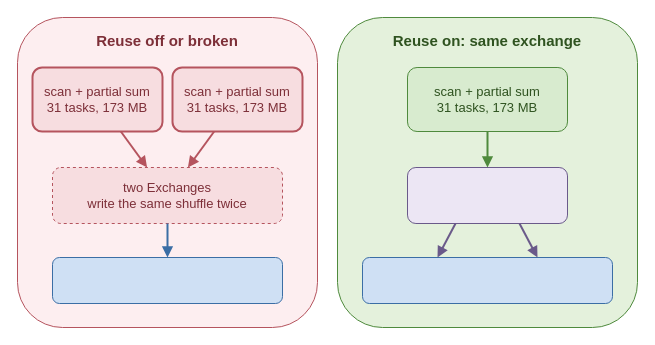
This 655x345 diagram has some shape labels left out. Here are the shapes that lost their labels. From the top down, the centre of each, then its label:
pixel 487 195: one Exchange written once
pixel 167 280: join: 10.0 s total
pixel 487 280: join reads it twice (ReusedExchange): 7.5 s
